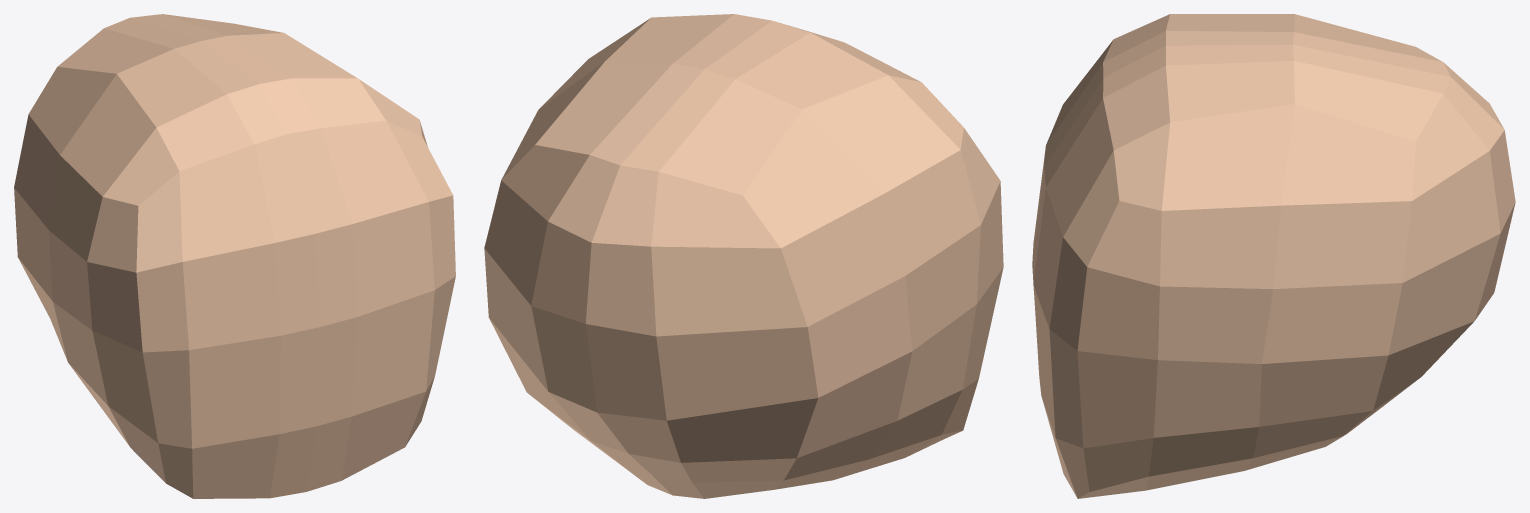
The model's file is Cabeza_Cuadrada.fbx.
The picture shows the model from 3 angles, left to right: view 1: azimuth 30°, elevation 25°; view 2: azimuth 150°, elevation 25°; view 3: azimuth 270°, elevation 25°; orthographic projection. The views are drawn at different scales.
Visible parts, largest first — view 1: Cabeza_Cuadrada1; view 2: Cabeza_Cuadrada1; view 3: Cabeza_Cuadrada1.
Boxes of the visible parts, left/top/right/bottom form: Cabeza_Cuadrada1: left=14, top=14, right=455, bottom=498; Cabeza_Cuadrada1: left=484, top=14, right=1003, bottom=498; Cabeza_Cuadrada1: left=1032, top=14, right=1515, bottom=498.
Size of the model in its own units: 2.77 by 2.9 by 3.01.
